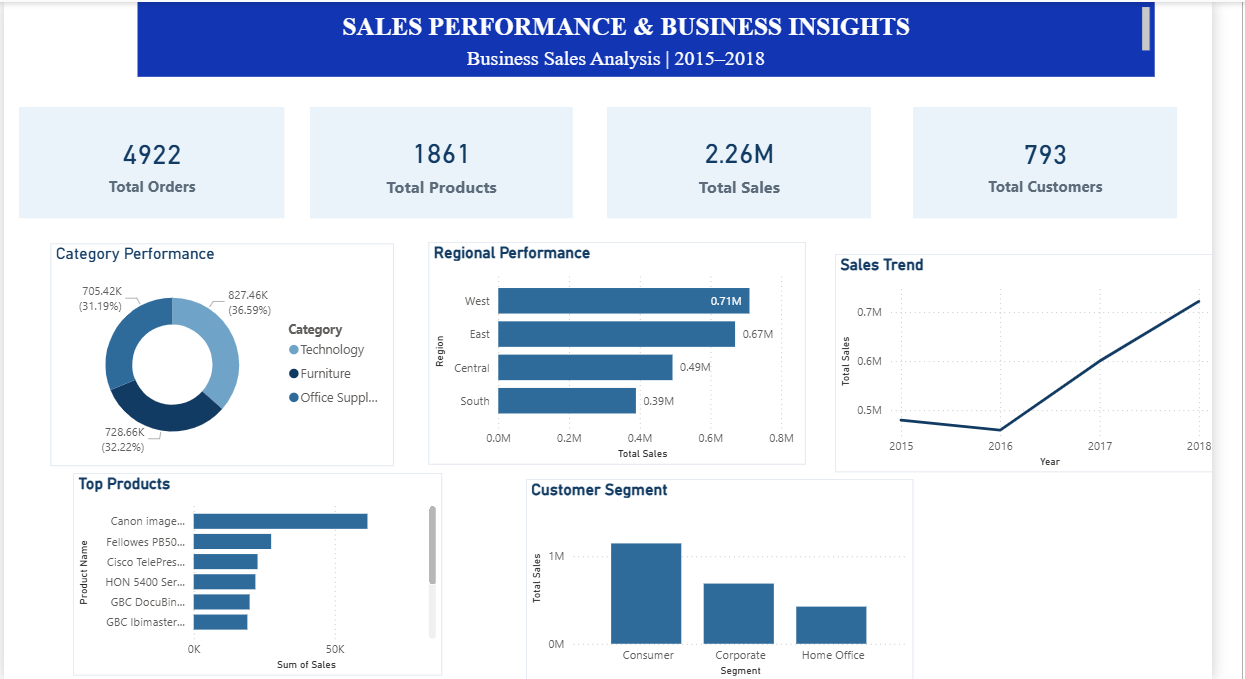

This screenshot's page, from the dashboard's own definition file:
{"tool":"powerbi","page":{"name":"Page 1","canvas":[1300,1000],"ordinal":0},"visuals":[{"type":"card","fields":{"Values":["train.Total Orders"]},"box":[15.1,79.4,281.6,149.3],"z":0},{"type":"card","fields":{"Values":["train.Total Sales"]},"box":[540.5,111.5,279.7,100.2],"z":1000},{"type":"card","fields":{"Values":["train.Total Customers"]},"box":[882.5,111.5,279.7,117.2],"z":2000},{"type":"card","fields":{"Values":["train.Total Products"]},"box":[296.7,71.8,279.7,156.9],"z":3000},{"type":"lineChart","fields":{"Category":["train.Order Date.Variation.Date Hierarchy.Year","train.Order Date.Variation.Date Hierarchy.Quarter","train.Order Date.Variation.Date Hierarchy.Month","train.Order Date.Variation.Date Hierarchy.Day"],"Y":["train.Total Sales"]},"box":[881.6,267.6,404.8,231.6],"z":4000},{"type":"clusteredBarChart","title":"Top 10 Products by Sales","fields":{"Category":["train.Product Name"],"Y":["Sum(train.Sales)"]},"box":[72,519.5,503.8,215.9],"z":5000},{"type":"clusteredColumnChart","title":"Sales by Category","fields":{"Category":["train.Category"],"Y":["train.Total Sales"]},"box":[49.5,256.4,364.3,236.1],"z":6000},{"type":"clusteredBarChart","title":"Sales by Region","fields":{"Category":["train.Region"],"Y":["train.Total Sales"]},"box":[449.8,254.1,400.3,236.1],"z":7000},{"type":"donutChart","title":"Sales by Customer Segment","fields":{"Category":["train.Segment"],"Y":["train.Total Sales"]},"box":[649.9,519.5,542,215.9],"z":8000},{"type":"textbox","box":[230.6,0,931.7,96.4],"z":9000},{"type":"textbox","box":[49.5,735.4,1236.9,265.4],"z":10000}]}

Visuals, with their boxes on the page's 1300x1000 design canvas (x1, y1, x2, y2). These are canvas units, not pixel positions in the 1245x679 screenshot, which may show the page scaled, cropped or inside an application window:
card - train.Total Orders: 15,79,297,229
card - train.Total Sales: 540,112,820,212
card - train.Total Customers: 882,112,1162,229
card - train.Total Products: 297,72,576,229
lineChart - train.Order Date.Variation.Date Hierarchy.Year x train.Order Date.Variation.Date Hierarchy.Quarter: 882,268,1286,499
"Top 10 Products by Sales" clusteredBarChart: 72,520,576,735
"Sales by Category" clusteredColumnChart: 50,256,414,492
"Sales by Region" clusteredBarChart: 450,254,850,490
"Sales by Customer Segment" donutChart: 650,520,1192,735
textbox: 231,0,1162,96
textbox: 50,735,1286,1001
